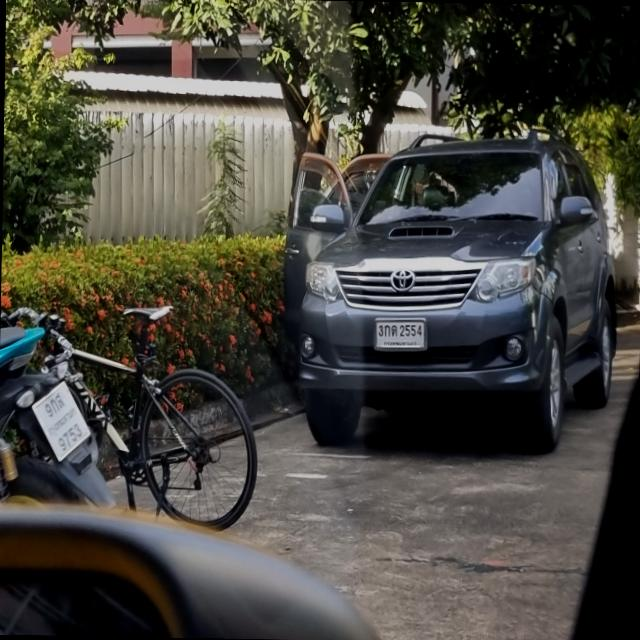license_plate: (372, 316, 430, 353)
